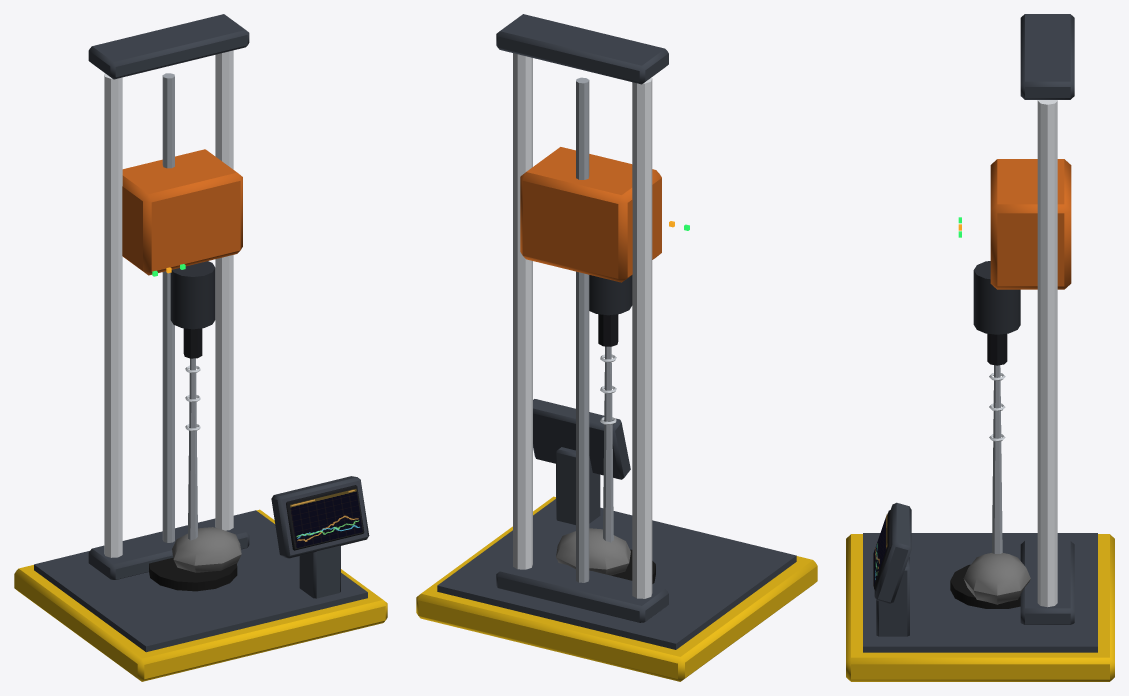
File: sciinstrument_sample_drill_rig.glb
The picture shows the model from 3 angles, left to right: view 1: azimuth 30°, elevation 25°; view 2: azimuth 150°, elevation 25°; view 3: azimuth 270°, elevation 25°; orthographic projection. The views are drawn at different scales.
Visible parts, largest first — view 1: sciinstrument_sample_drill_rig; view 2: sciinstrument_sample_drill_rig; view 3: sciinstrument_sample_drill_rig.
Boxes of the visible parts, x1=… form: sciinstrument_sample_drill_rig: x1=14, y1=14, x2=387, y2=681; sciinstrument_sample_drill_rig: x1=416, y1=14, x2=817, y2=681; sciinstrument_sample_drill_rig: x1=846, y1=14, x2=1114, y2=681.
Bounding box in the file's own units: 0.9 × 1.88 × 0.8.
Materials: 13 (1 with a texture image).
